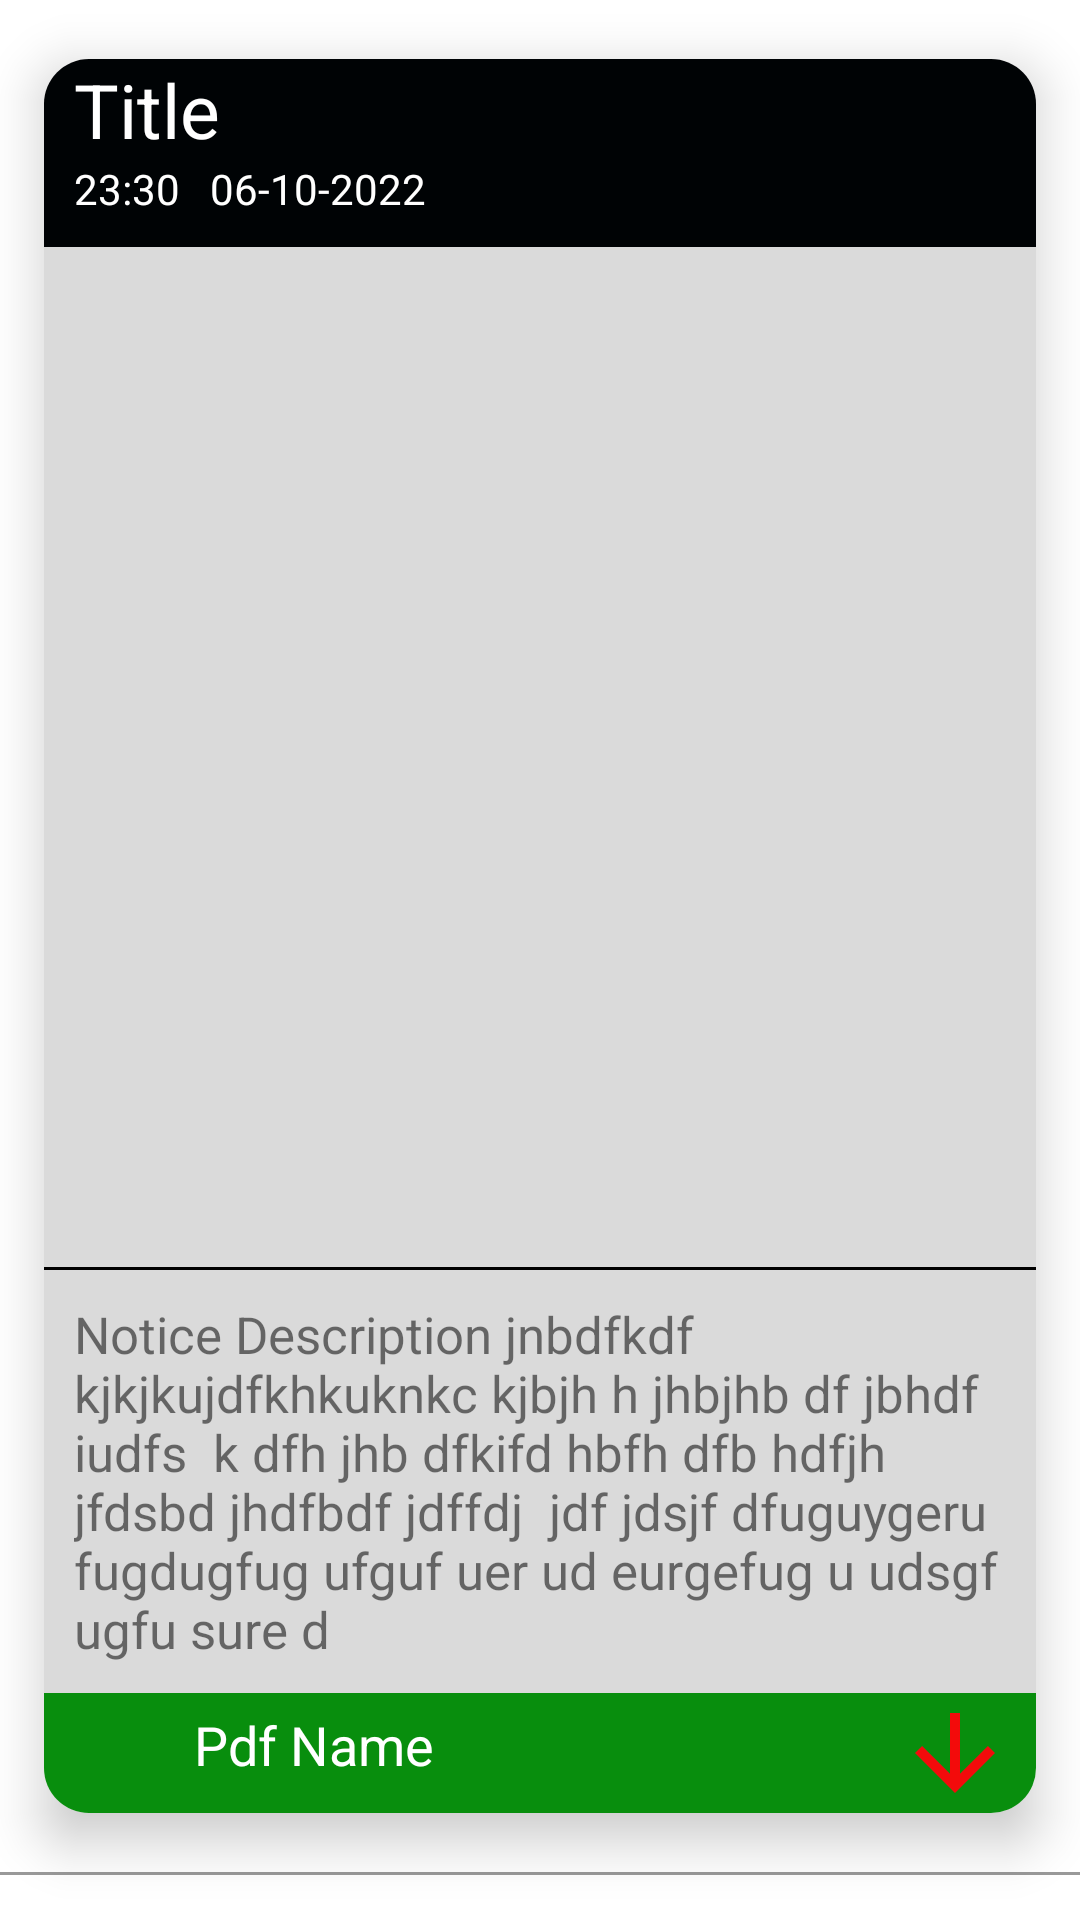

Point at icon controls on the screen. Image size 1080 x 1920, points as (x,y).
arrow downward: (955,1753)
